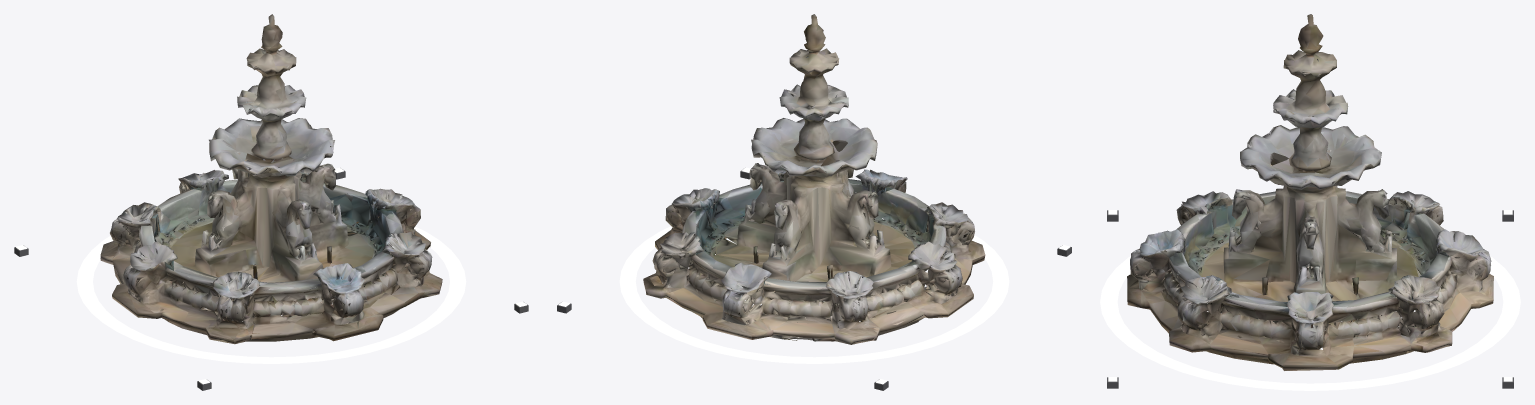
Rendered from pegasus-fountain.glb.
The picture shows the model from 3 angles, left to right: view 1: azimuth 30°, elevation 25°; view 2: azimuth 150°, elevation 25°; view 3: azimuth 270°, elevation 25°; orthographic projection. The views are drawn at different scales.
Visible parts, largest first — view 1: Statue, Uplight; view 2: Statue, Uplight; view 3: Statue, Uplight.
Boxes of the visible parts, x1,y1,x2,y2 form: Statue: [100, 14, 442, 344]; Uplight: [14, 167, 528, 390]; Statue: [643, 14, 985, 344]; Uplight: [557, 167, 1071, 390]; Statue: [1127, 14, 1493, 370]; Uplight: [1100, 210, 1520, 390].
Size of the model in its own units: 13.23 by 10 by 13.23.
Materials: 3 (1 with a texture image).
